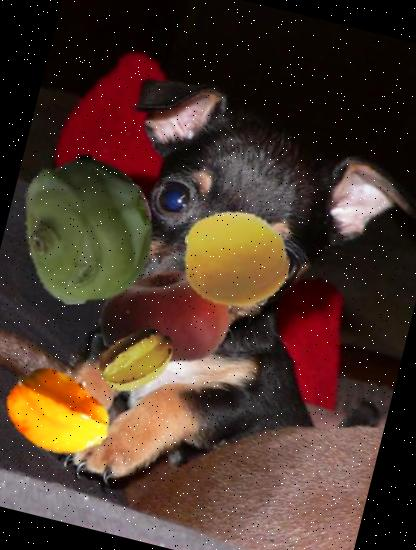Carambula: (0, 346, 125, 479), (88, 312, 186, 409)
Kohlrabi: (0, 139, 179, 320)
Nectarine: (86, 239, 246, 399)
Peach: (171, 194, 302, 325)
Redcurrant: (73, 172, 158, 258)
